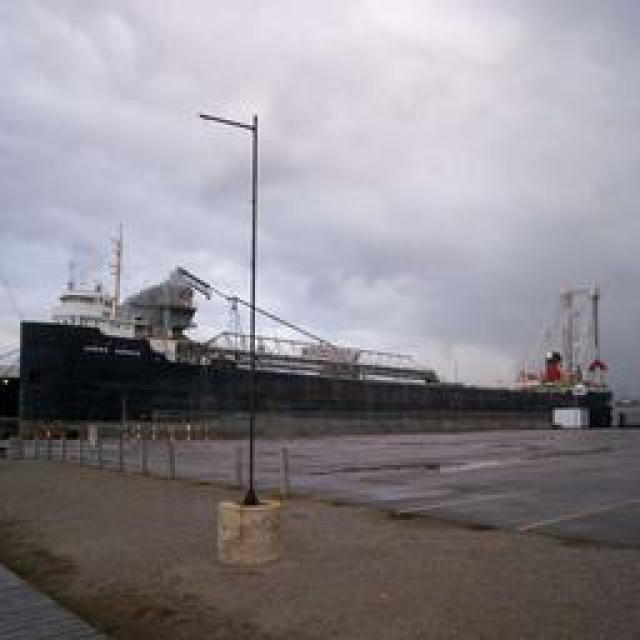Ship: (19, 217, 626, 446)
